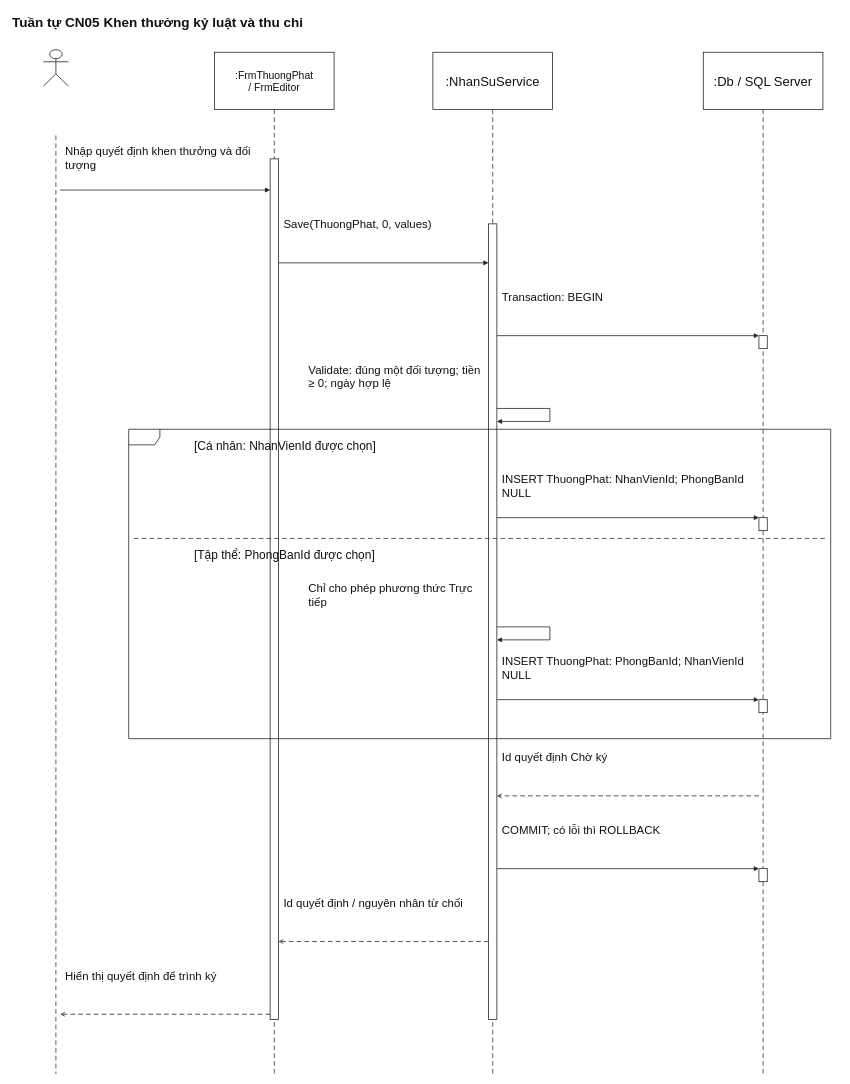
The diagram is 850 pixels wide and 1084 high, and some of its shapes have lost their labels. The shapes that lost their labels are listed below. From the top down, each one's box as (x1, y1, x2, y2) in pixels, then its label:
(43, 49, 69, 86): Nhân sự
(128, 429, 831, 739): alt
